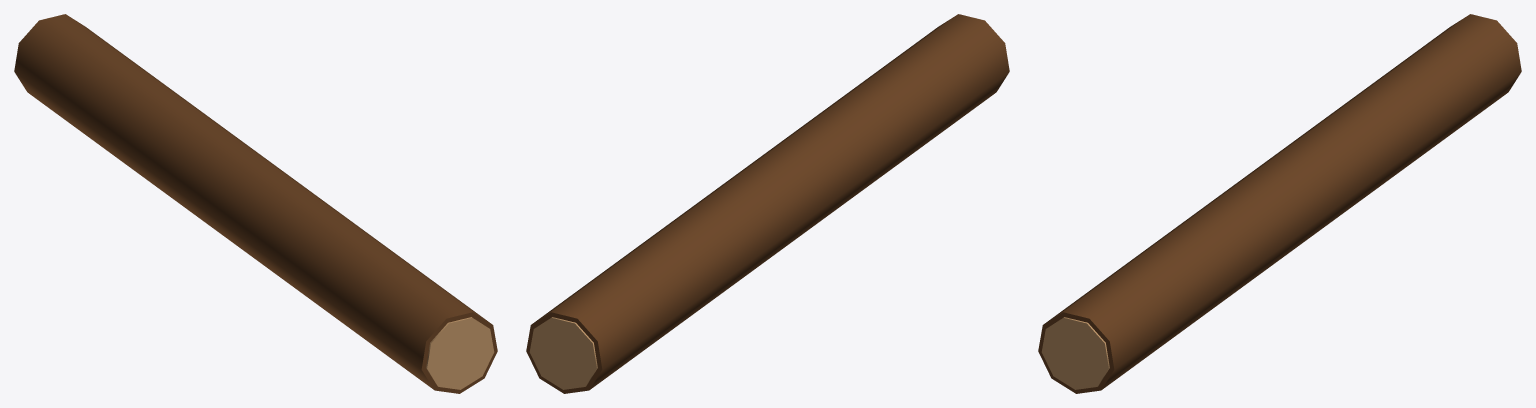
File: log.glb
The picture shows the model from 3 angles, left to right: view 1: azimuth 30°, elevation 25°; view 2: azimuth 150°, elevation 25°; view 3: azimuth 330°, elevation 25°; orthographic projection.
Visible parts, largest first — view 1: body; view 2: body; view 3: body.
Part boxes in pixels (bbox=[...]): body: bbox=[14, 14, 497, 393]; body: bbox=[526, 14, 1009, 393]; body: bbox=[1038, 14, 1521, 393].
Size of the model in its own units: 0.6697 by 0.6595 by 6.23.
